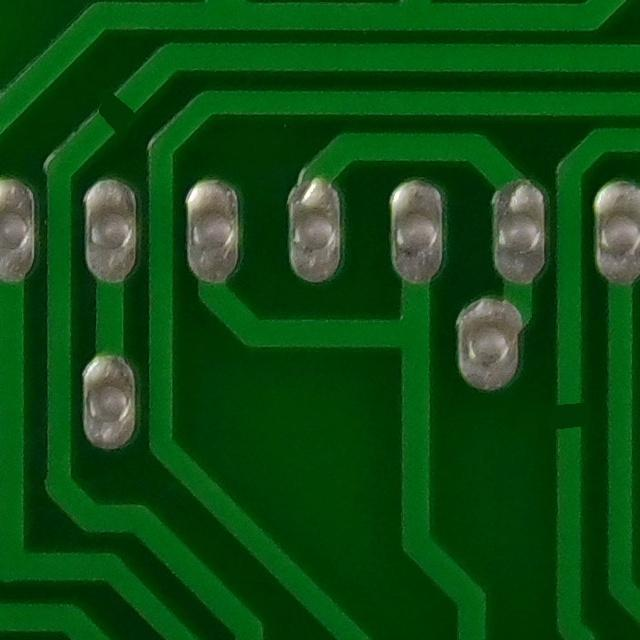open_circuit: (84, 80, 143, 149), (540, 387, 597, 446)
